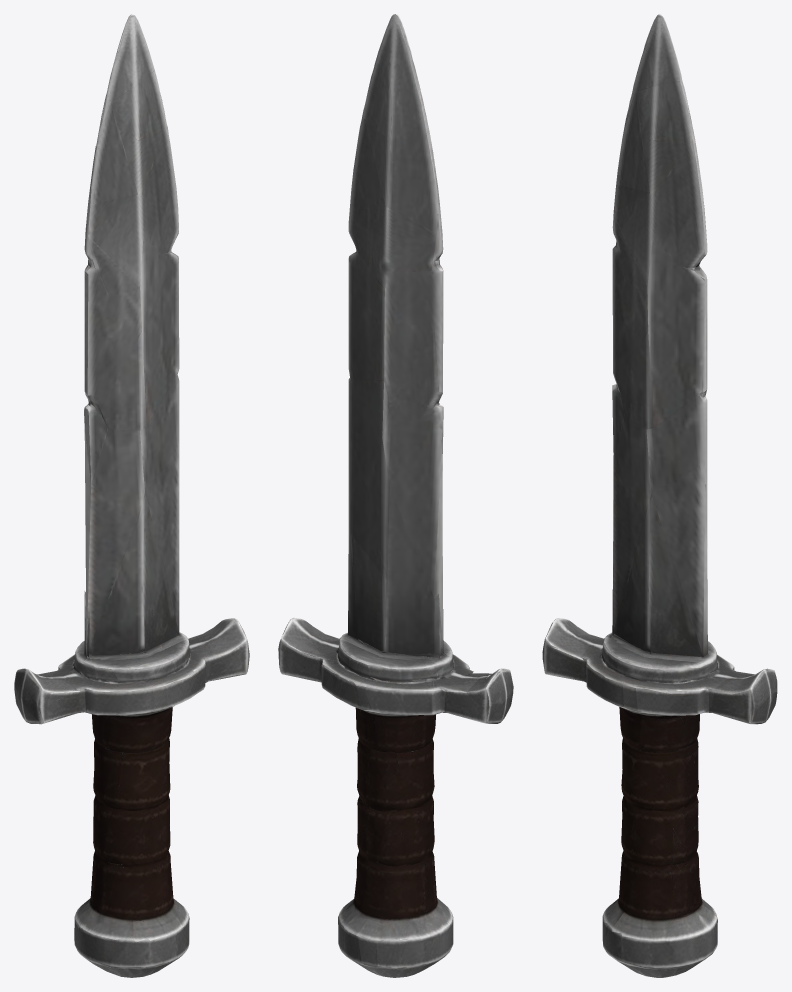
Rendered from cutpurse_dagger.glb.
3 renders of one model, left to right at view 1: azimuth 30°, elevation 25°; view 2: azimuth 150°, elevation 25°; view 3: azimuth 330°, elevation 25°, orthographic.
Bounding box in the file's own units: 0.2909 × 1.21 × 0.1337.
1 material, 1 textured.
